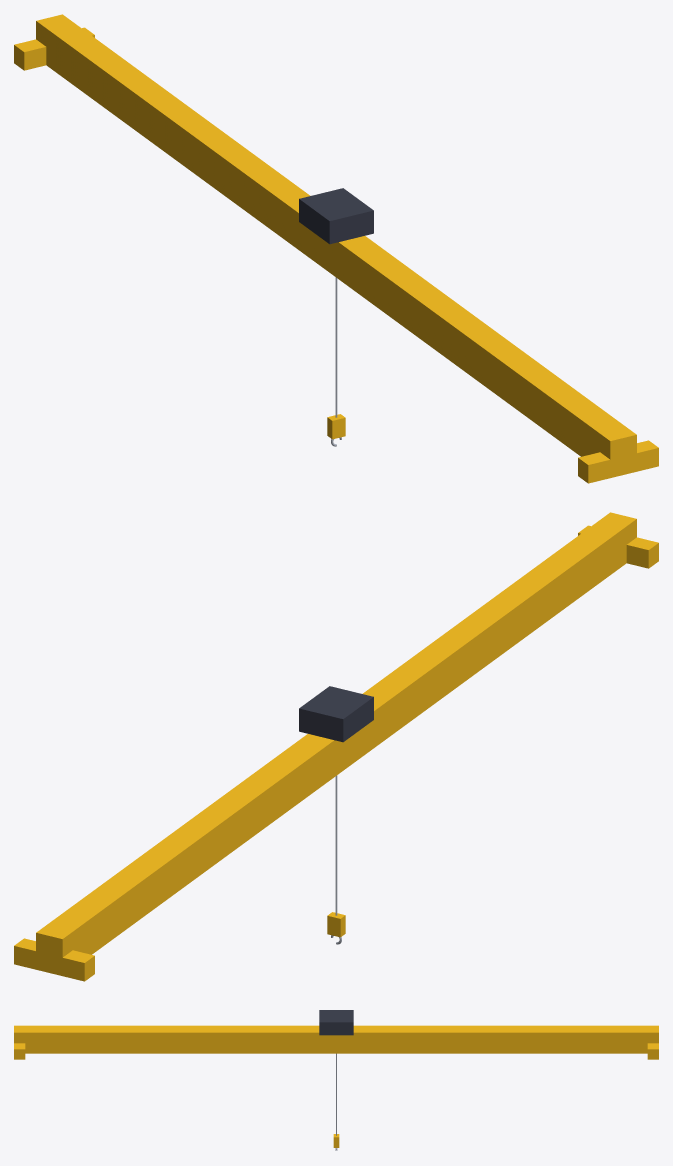
The model's file is ind-012.glb.
3 views of the same model, one above another, from view 1: azimuth 30°, elevation 25°; view 2: azimuth 150°, elevation 25°; view 3: azimuth 270°, elevation 25° (orthographic). The views are drawn at different scales.
Visible parts, largest first — view 1: girder, hoist, end_truck_b, end_truck_a; view 2: girder, hoist, end_truck_a, end_truck_b; view 3: girder, hoist.
Boxes of the visible parts, <box> form: girder: <box>36,14,636,477</box>; hoist: <box>299,188,373,244</box>; end_truck_b: <box>578,440,658,483</box>; end_truck_a: <box>14,27,94,70</box>; girder: <box>36,512,636,975</box>; hoist: <box>299,686,373,742</box>; end_truck_a: <box>14,938,94,981</box>; end_truck_b: <box>578,525,658,568</box>; girder: <box>14,1025,658,1053</box>; hoist: <box>319,1010,353,1035</box>.
Bounding box in the file's own units: 1.6 × 5.23 × 22.5.
